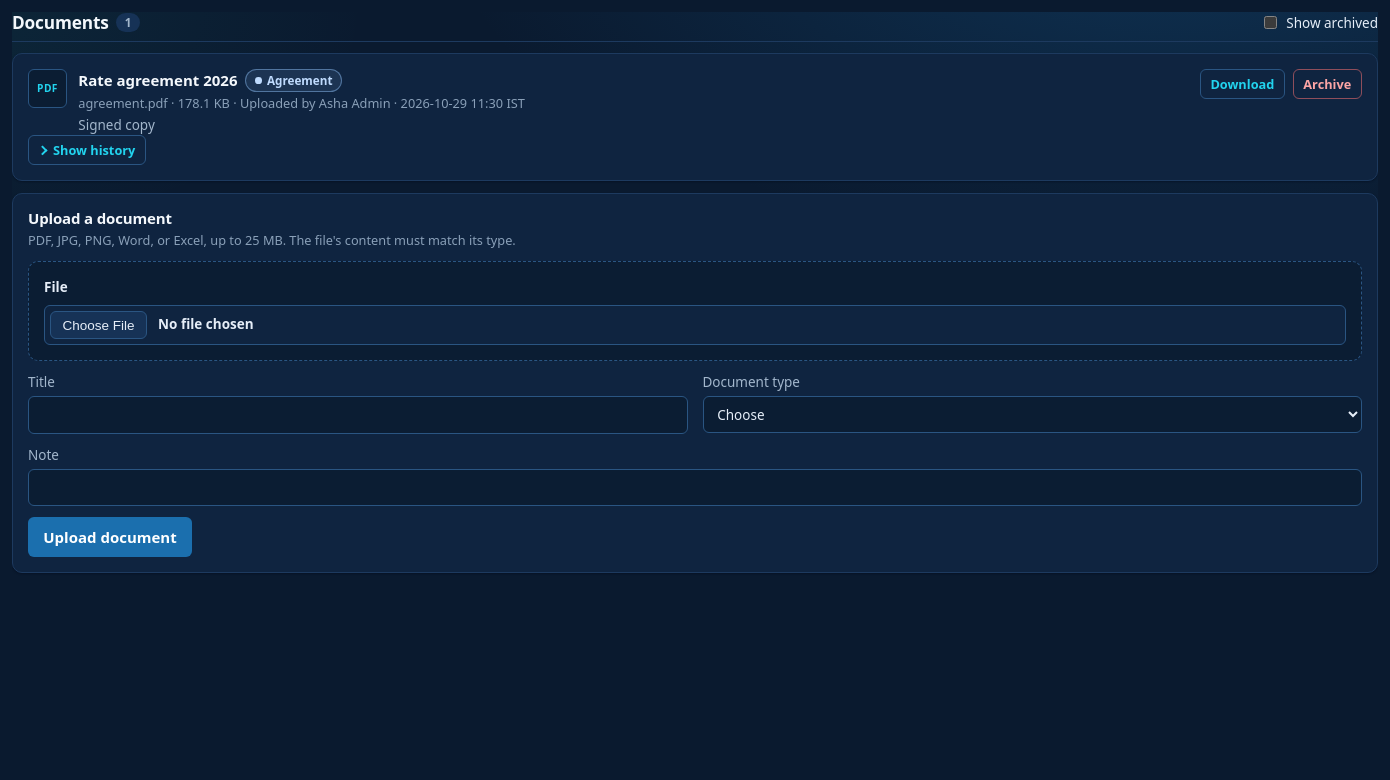
it: documents section › adds include_archived=true when "Show archived" is ticked, marks archived documents, and offers restore
Click the checkbox labelled "Show archived": (1271, 23) [1264,16,1277,29]
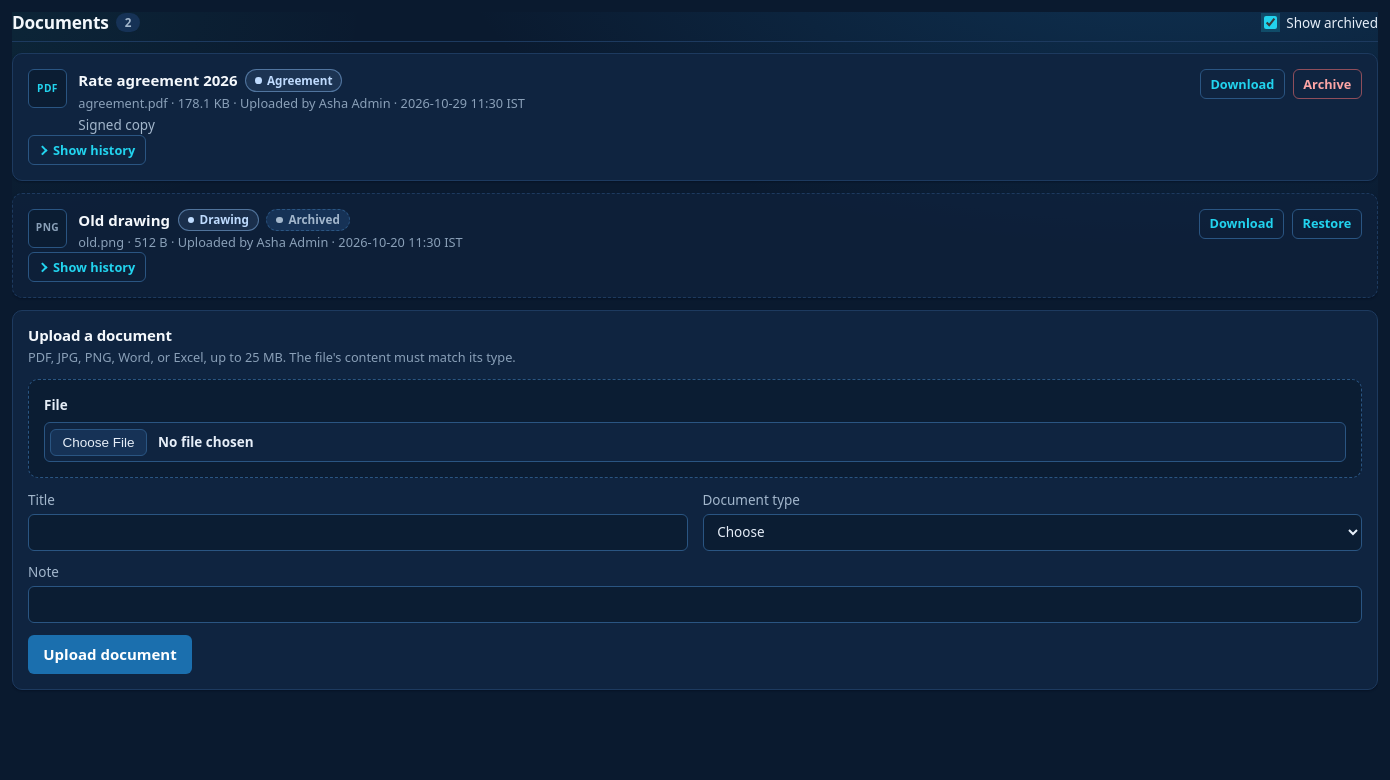
Expected: the number of list items is 2, [12,53,1378,181]; [12,193,1378,298]
Expected: the list item that starts with "PNG" shows "Archived", [288,211,340,227]
Expected: the button "Restore" is shown, [1292,209,1362,239]
